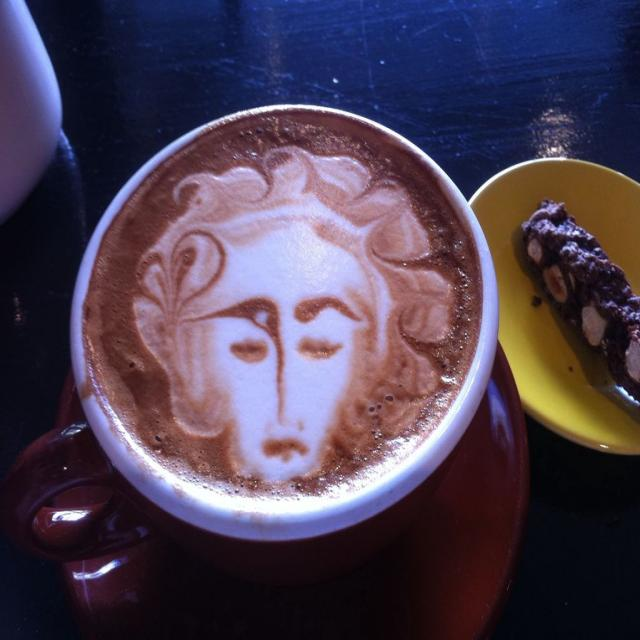latte: (69, 108, 499, 543)
